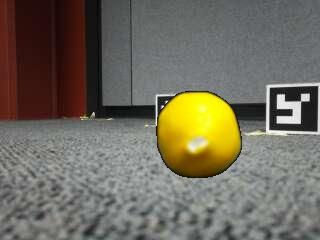lemon: (157, 92, 240, 178)
